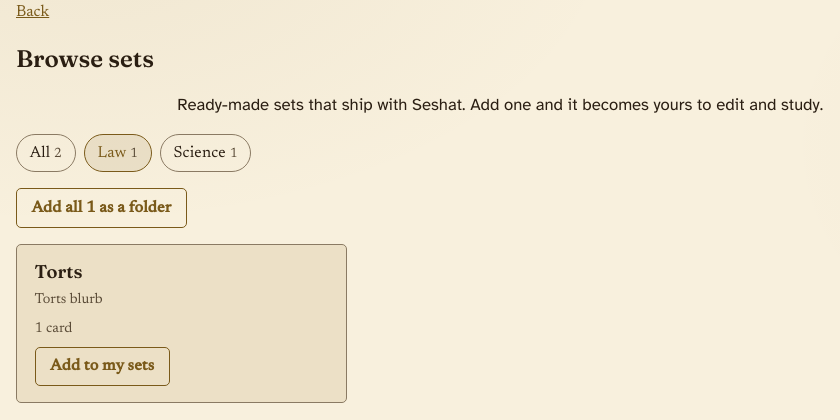
it: SetBrowsePage › adds a set once, then shows Added and Open instead of a second Add
Click the button with aria-label "Add Torts to my sets": (102, 366) top-left (35, 347), bottom-right (170, 386)
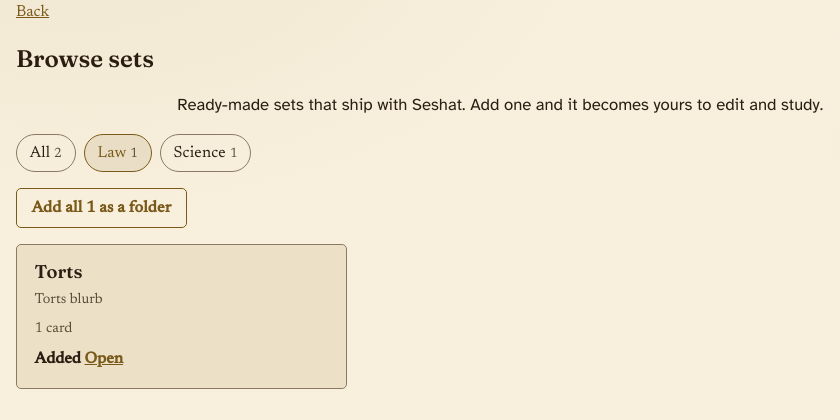
expect the text "Added" is shown: met, box top-left (35, 351), bottom-right (81, 367)
